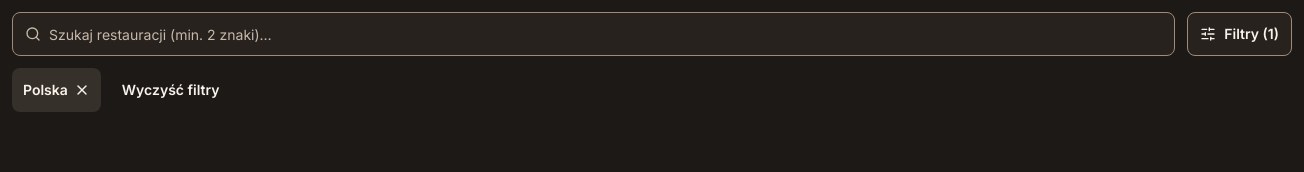
it: restaurant filter panel › cancels pending search on reset so it cannot restore old filters
The width and height of the screenshot is (1304, 172).
Type "pizza" into the search field labelled "Szukaj restauracji" at x=608, y=34, box [41, 12, 1174, 56]
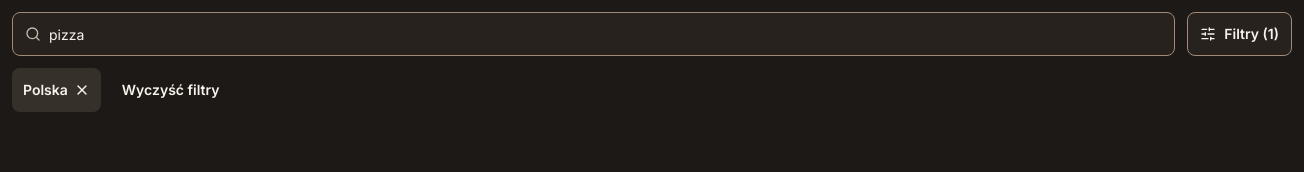
Click the button "Wyczyść filtry" at x=171, y=90, box [109, 68, 232, 112]
Wait 350 ms
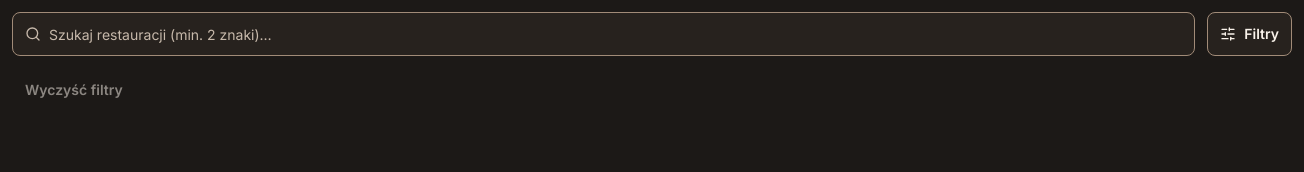
Expected: the search field is empty, [41, 12, 1194, 56]
Expected: the button "Wyczyść filtry" is disabled, [12, 68, 136, 112]
